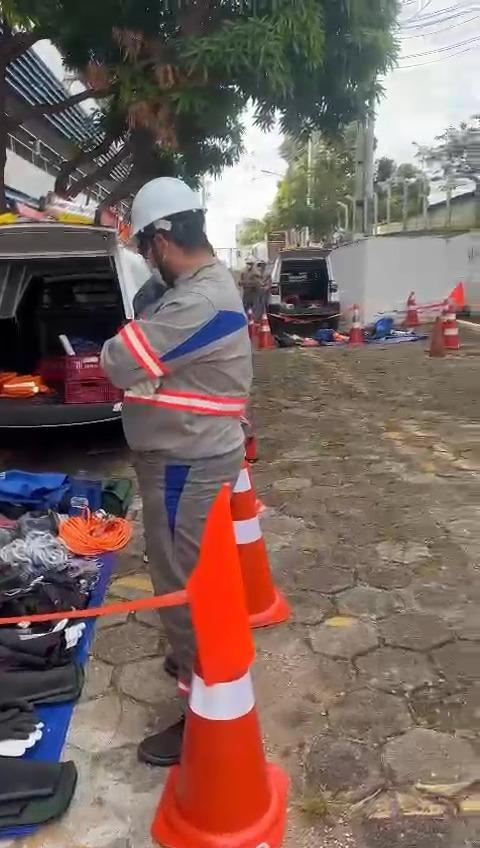Cone: (183, 480, 299, 848), (439, 290, 464, 350), (349, 296, 366, 347), (403, 282, 419, 331), (259, 310, 277, 344)
Helmet: (125, 168, 221, 285)
